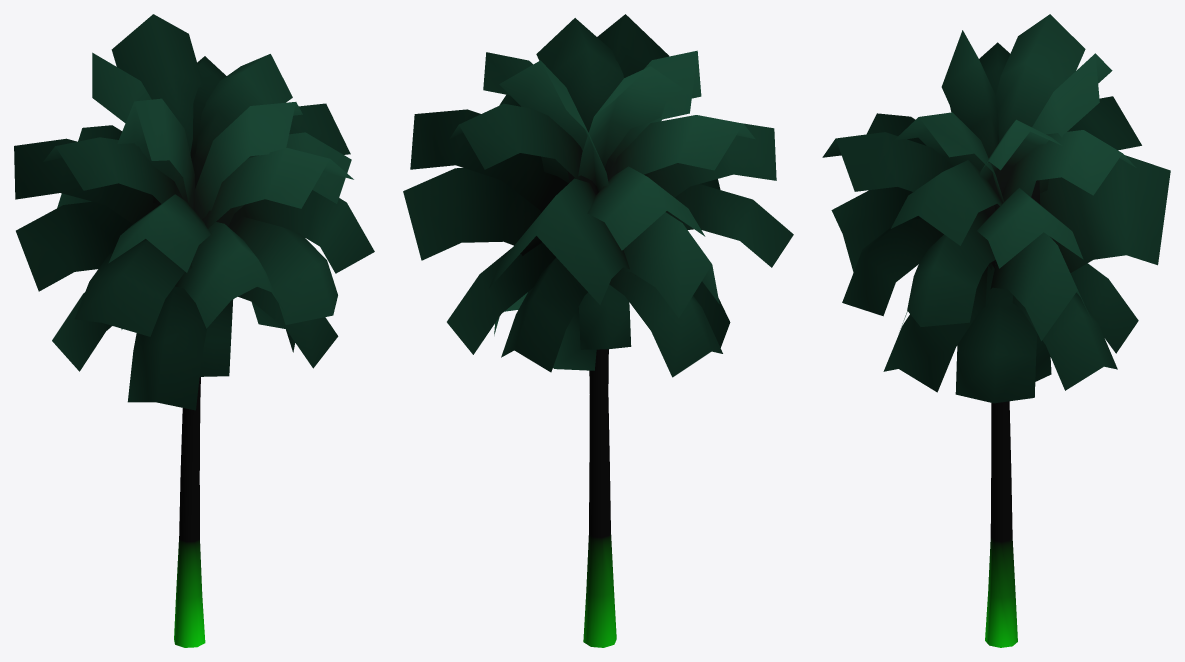
File: SM_DesertCoconutPalm02.fbx
The picture shows the model from 3 angles, left to right: view 1: azimuth 30°, elevation 25°; view 2: azimuth 150°, elevation 25°; view 3: azimuth 270°, elevation 25°; orthographic projection. The views are drawn at different scales.
Parts seen in each view (by area): view 1: SM_DesertCoconutPalm02_LOD0; view 2: SM_DesertCoconutPalm02_LOD0; view 3: SM_DesertCoconutPalm02_LOD0.
Boxes of the visible parts, x1=… form: SM_DesertCoconutPalm02_LOD0: x1=14, y1=14, x2=374, y2=647; SM_DesertCoconutPalm02_LOD0: x1=403, y1=14, x2=793, y2=647; SM_DesertCoconutPalm02_LOD0: x1=822, y1=14, x2=1170, y2=647.
Size of the model in its own units: 612 by 1146 by 610.
